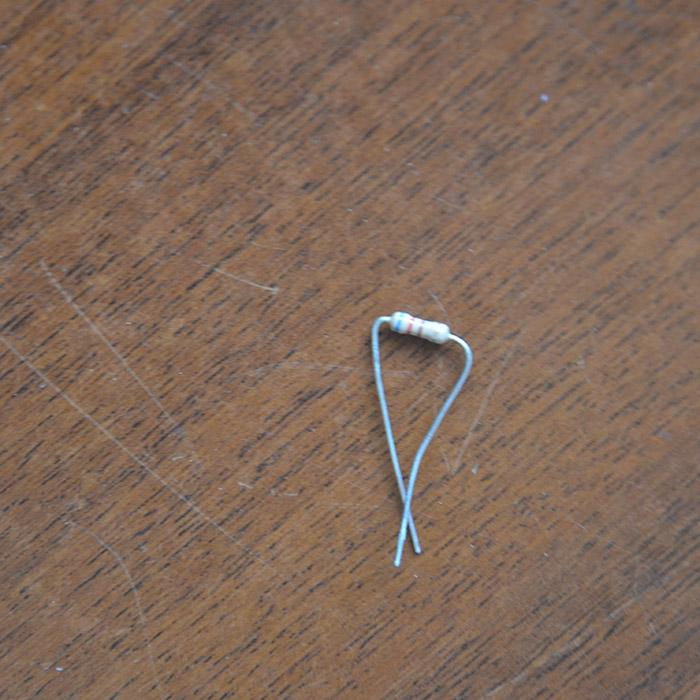resistor: (389, 309, 451, 344)
